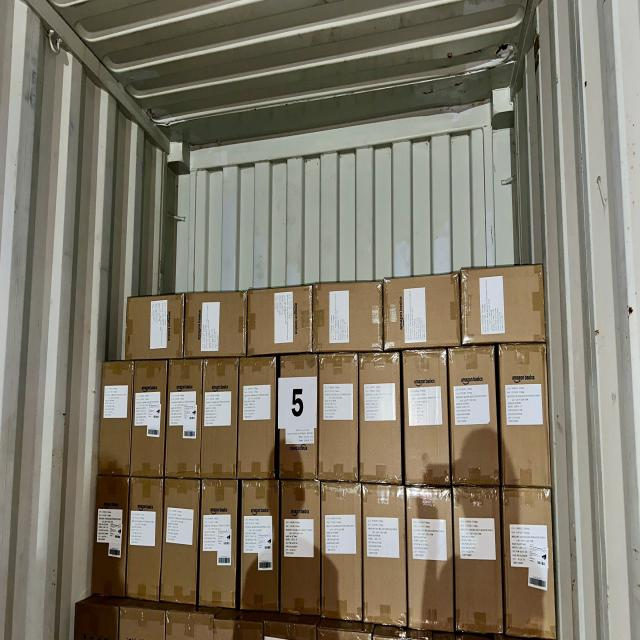Carton: (501, 486, 556, 638), (503, 344, 555, 488), (455, 486, 505, 634), (406, 486, 454, 632), (450, 348, 500, 487), (463, 266, 547, 345), (361, 484, 406, 629), (404, 347, 450, 486), (358, 351, 401, 484), (386, 276, 462, 351), (323, 487, 365, 621), (280, 481, 320, 618), (238, 479, 277, 614), (313, 282, 385, 354), (321, 358, 361, 484), (200, 478, 238, 609), (278, 354, 318, 478), (247, 289, 313, 359), (162, 477, 198, 603), (237, 356, 274, 478), (202, 358, 238, 477), (184, 294, 248, 360), (129, 476, 163, 600), (131, 360, 166, 479), (170, 358, 205, 475), (97, 474, 129, 598), (100, 361, 133, 477), (127, 294, 185, 360)
